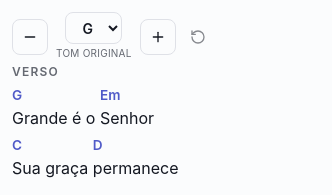
it: TransposeControl › volta ao tom original
The width and height of the screenshot is (332, 195).
Select "Bb" in the dropdown named "Tom da música" at (94, 28), box [65, 12, 122, 44]
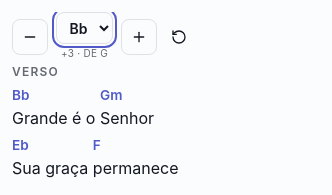
Click the button named "Voltar ao tom original".
click(179, 36)  # box [161, 18, 197, 54]
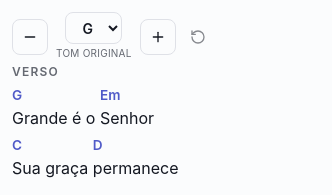
Result: the text "Tom original" is shown at [56, 46, 132, 61]
